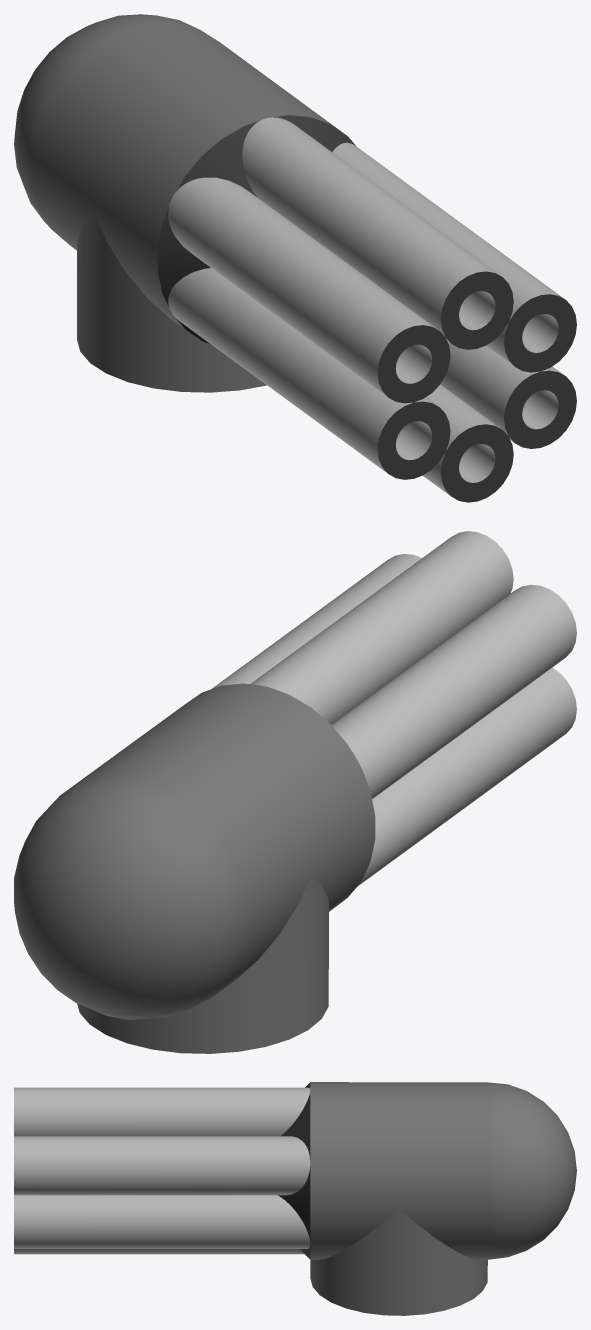
Rendered from TankyGatling.fbx.
The picture shows the model from 3 angles, top to bottom: view 1: azimuth 30°, elevation 25°; view 2: azimuth 150°, elevation 25°; view 3: azimuth 270°, elevation 25°; orthographic projection. The views are drawn at different scales.
Parts seen in each view (by area): view 1: Gatling v2; view 2: Gatling v2; view 3: Gatling v2.
Boxes of the visible parts, x1=… form: Gatling v2: x1=14, y1=14, x2=576, y2=502; Gatling v2: x1=14, y1=531, x2=576, y2=1053; Gatling v2: x1=14, y1=1082, x2=576, y2=1315.
Bounding box in the file's own units: 60 × 70 × 190.
